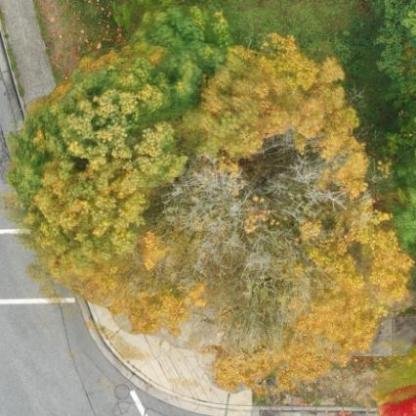Deciduous Tree: (5, 16, 406, 384)
